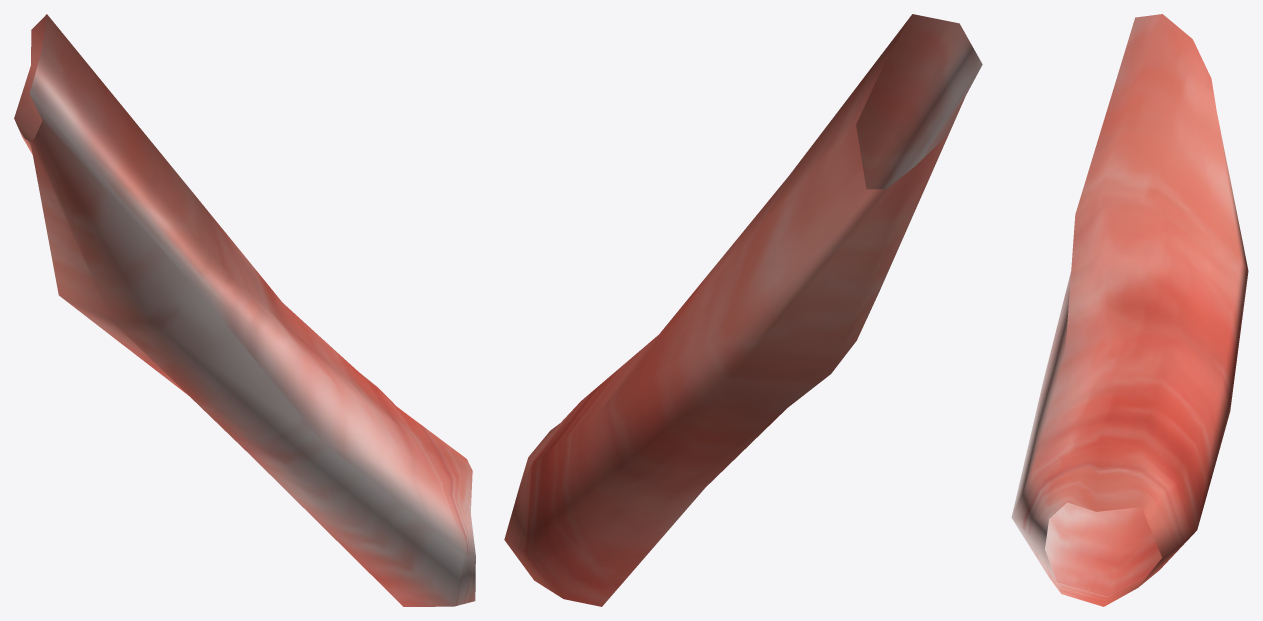
File: Pterygoid_Lateral_Muscle_Left.obj
The picture shows the model from 3 angles, left to right: view 1: azimuth 30°, elevation 25°; view 2: azimuth 150°, elevation 25°; view 3: azimuth 270°, elevation 25°; orthographic projection. The views are drawn at different scales.
Visible parts, largest first — view 1: Masseter_Deep_Muscle_Left:Masseter_Deep_Muscle_Left1_Mesh Masset; view 2: Masseter_Deep_Muscle_Left:Masseter_Deep_Muscle_Left1_Mesh Masset; view 3: Masseter_Deep_Muscle_Left:Masseter_Deep_Muscle_Left1_Mesh Masset.
Boxes of the visible parts, bbox=[...] form: Masseter_Deep_Muscle_Left:Masseter_Deep_Muscle_Left1_Mesh Masset: bbox=[14, 14, 475, 606]; Masseter_Deep_Muscle_Left:Masseter_Deep_Muscle_Left1_Mesh Masset: bbox=[504, 14, 982, 606]; Masseter_Deep_Muscle_Left:Masseter_Deep_Muscle_Left1_Mesh Masset: bbox=[1011, 14, 1248, 606].
Size of the model in its own units: 0.5006 by 0.7418 by 0.341.
